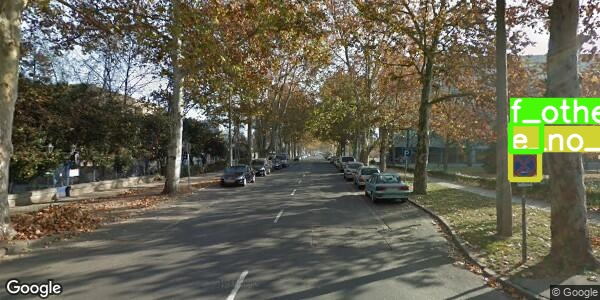e_no_stop_park: (510, 150, 539, 179)
f_others: (510, 122, 540, 151)
